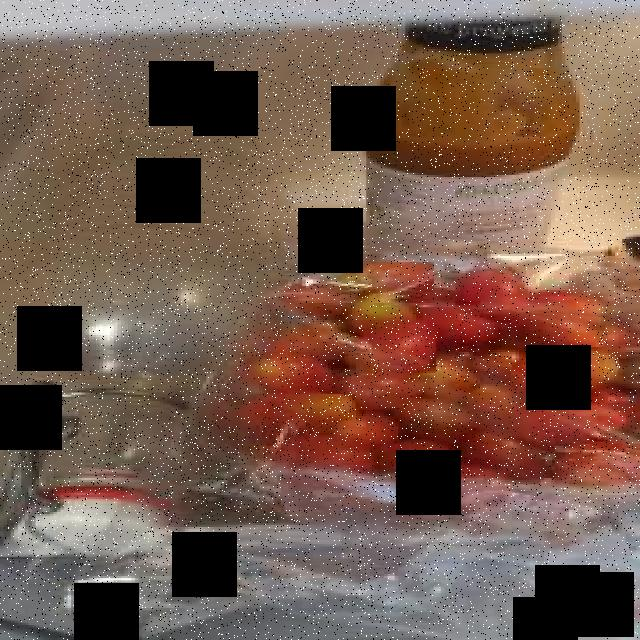tomato: (510, 348, 620, 394), (462, 424, 555, 478), (343, 320, 436, 373), (238, 394, 356, 434), (455, 267, 541, 320), (245, 433, 374, 467), (249, 355, 352, 394), (341, 262, 434, 303), (510, 310, 606, 347)
